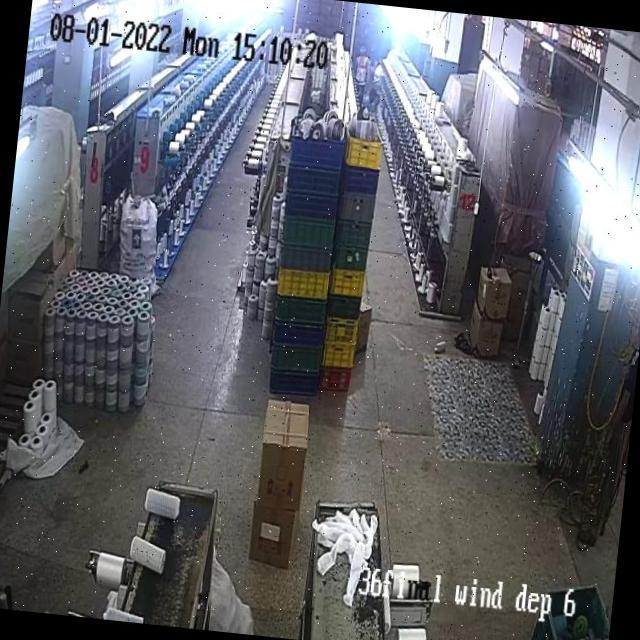person: (354, 42, 369, 102), (369, 88, 386, 123), (362, 82, 378, 116)
